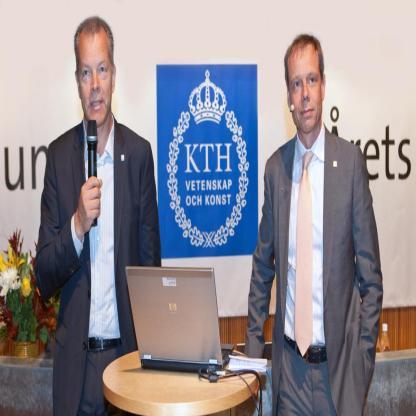board: (124, 260, 232, 391)
